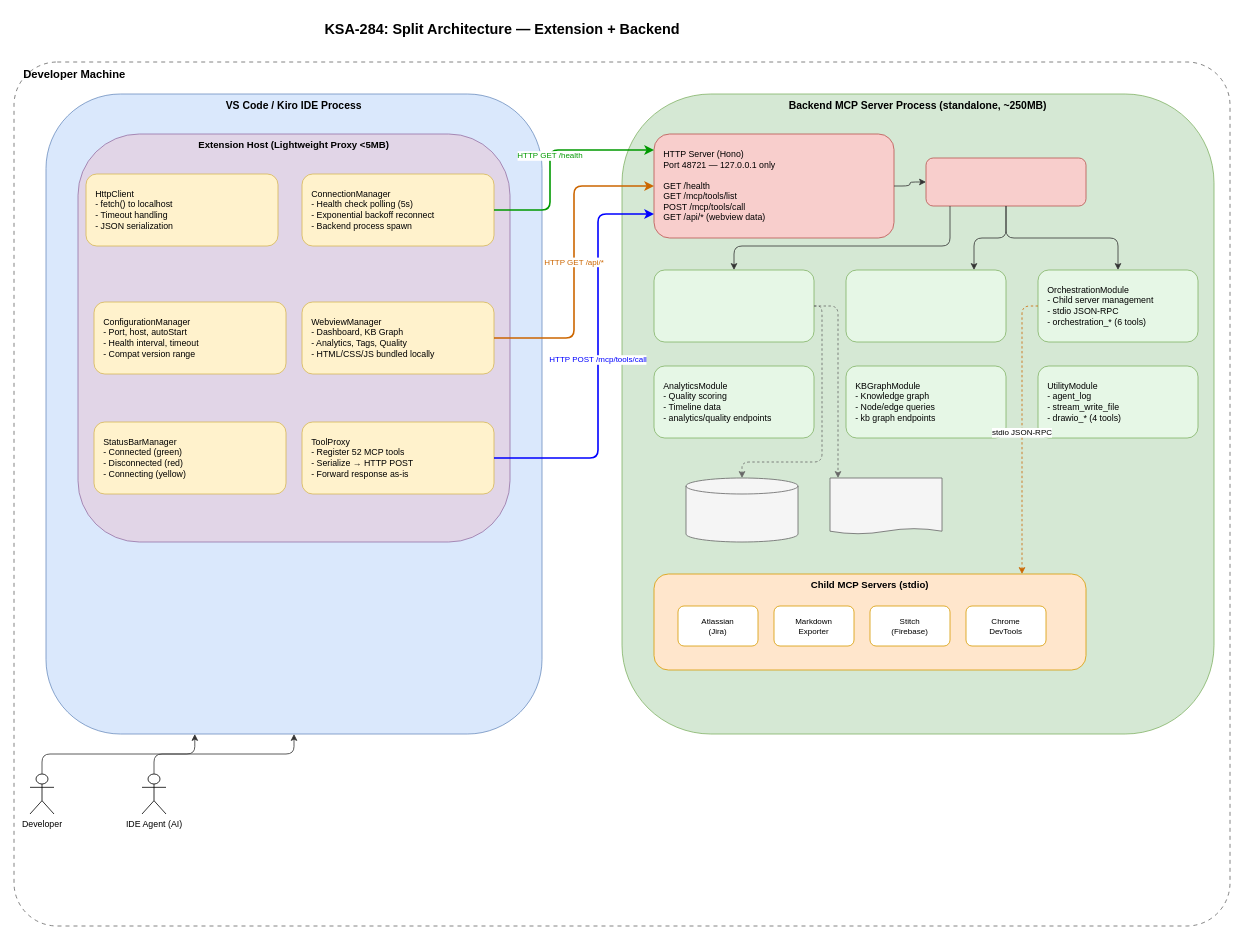
The diagram is 1244 pixels wide and 940 high, and some of its shapes have lost their labels. Here are the shapes that lost their labels. From the top down, the centre of each, then its label:
At [1005,181]: "ToolRouter Route tool_name → Module".
At [733,305]: "MemoryModule - SQLite + better-sqlite3 - ONNX embeddings - mem_* (17 tools)".
At [925,305]: "CodeIntelModule - AST indexing - Symbol search - code_* (25 tools)".
At [741,509]: "SQLite DB (.code-intel/index.db)".
At [885,505]: "ONNX Model (models/model.onnx)".
